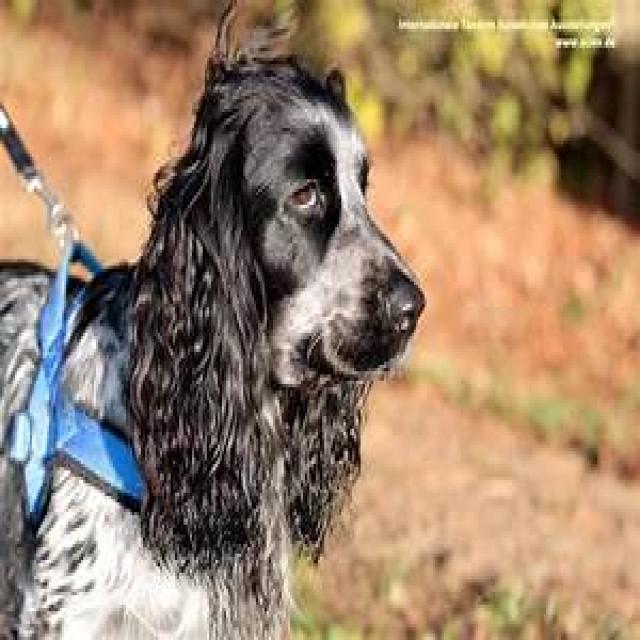animal: (0, 0, 427, 637)
